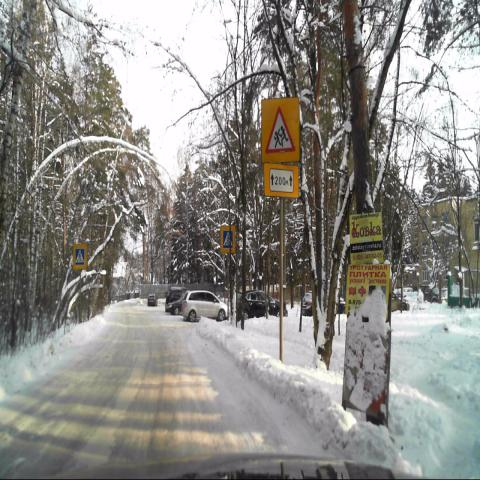8_2_1: (264, 165, 299, 198)
